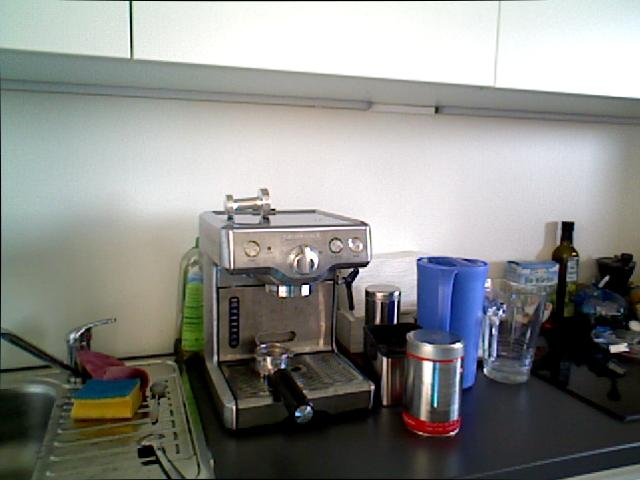bench: (171, 230, 216, 366), (551, 220, 579, 318)
couch: (0, 361, 72, 480)
handbag: (414, 249, 488, 390), (480, 277, 544, 386)
toilet: (134, 430, 194, 480), (143, 377, 176, 424)
